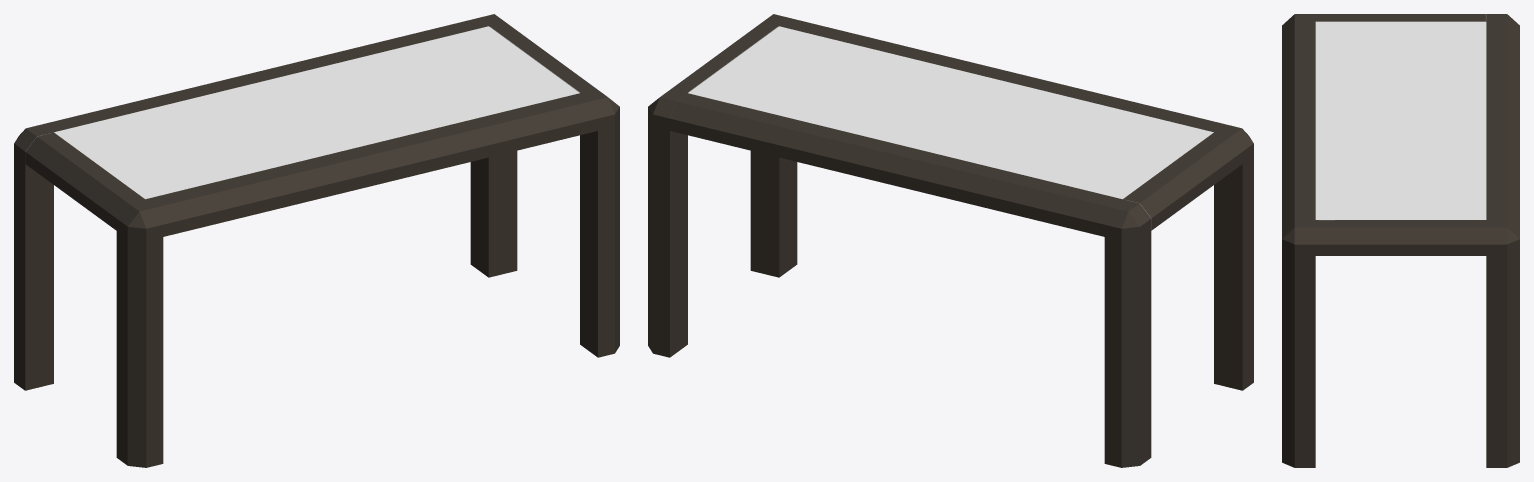
File: table2.fbx
3 views of the same model, side by side, from view 1: azimuth 30°, elevation 25°; view 2: azimuth 150°, elevation 25°; view 3: azimuth 270°, elevation 25° (orthographic). The views are drawn at different scales.
Visible parts, largest first — view 1: polySurface28, polySurface30; view 2: polySurface28, polySurface30; view 3: polySurface28, polySurface30.
Boxes of the visible parts, <box> form: polySurface28: <box>14,14,619,467</box>; polySurface30: <box>54,26,579,199</box>; polySurface28: <box>648,14,1253,467</box>; polySurface30: <box>688,26,1213,199</box>; polySurface28: <box>1282,14,1519,467</box>; polySurface30: <box>1315,21,1486,219</box>.
Size of the model in its own units: 10.48 by 5.12 by 4.7.
2 materials, 1 textured.
